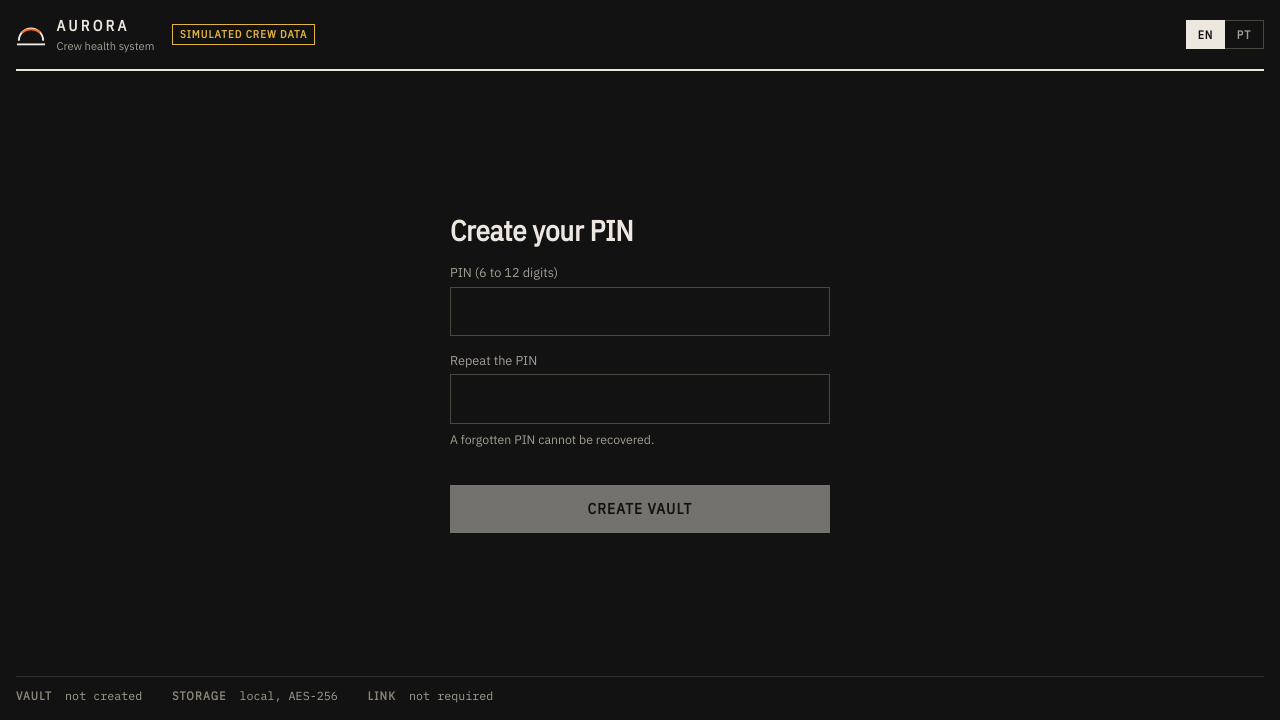
Test: Portuguese version › shows PIN errors in Portuguese
The image size is (1280, 720).
Click the button named "Português" at (1244, 35), box [1225, 20, 1264, 49]
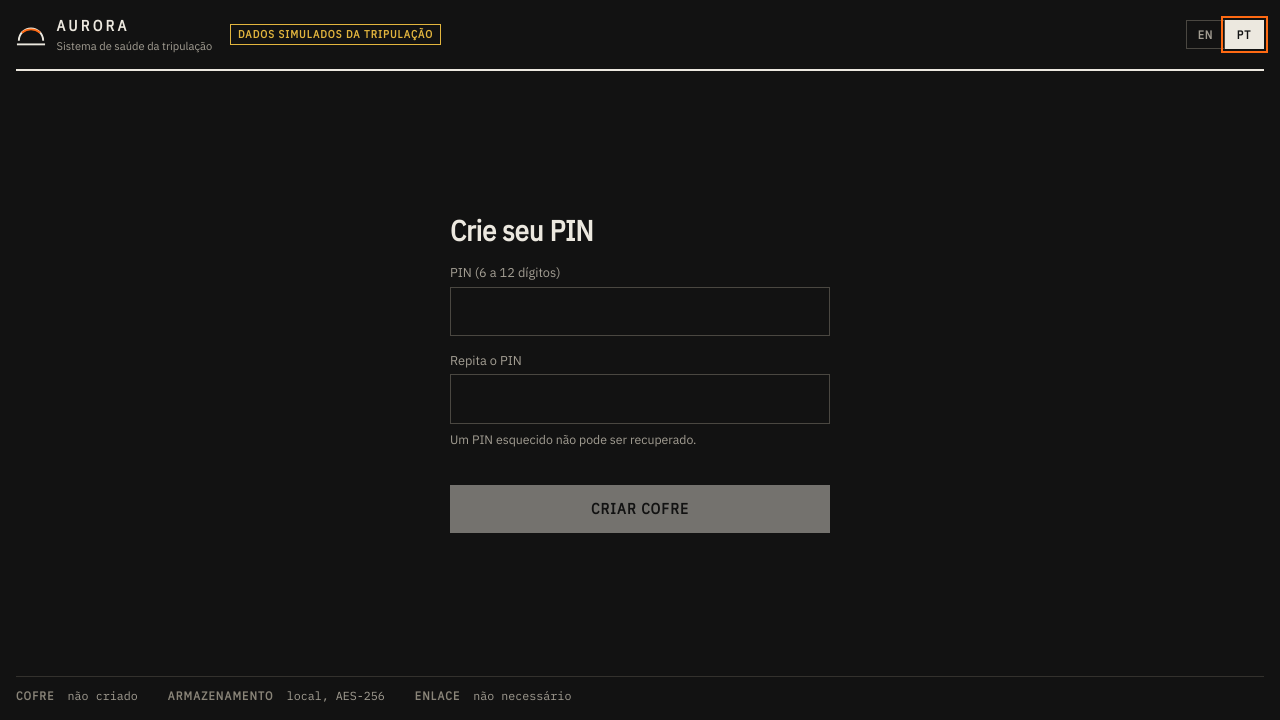
Type "123456" into the password field labelled "PIN (6 a 12 dígitos)" at (640, 311), box [450, 286, 830, 336]
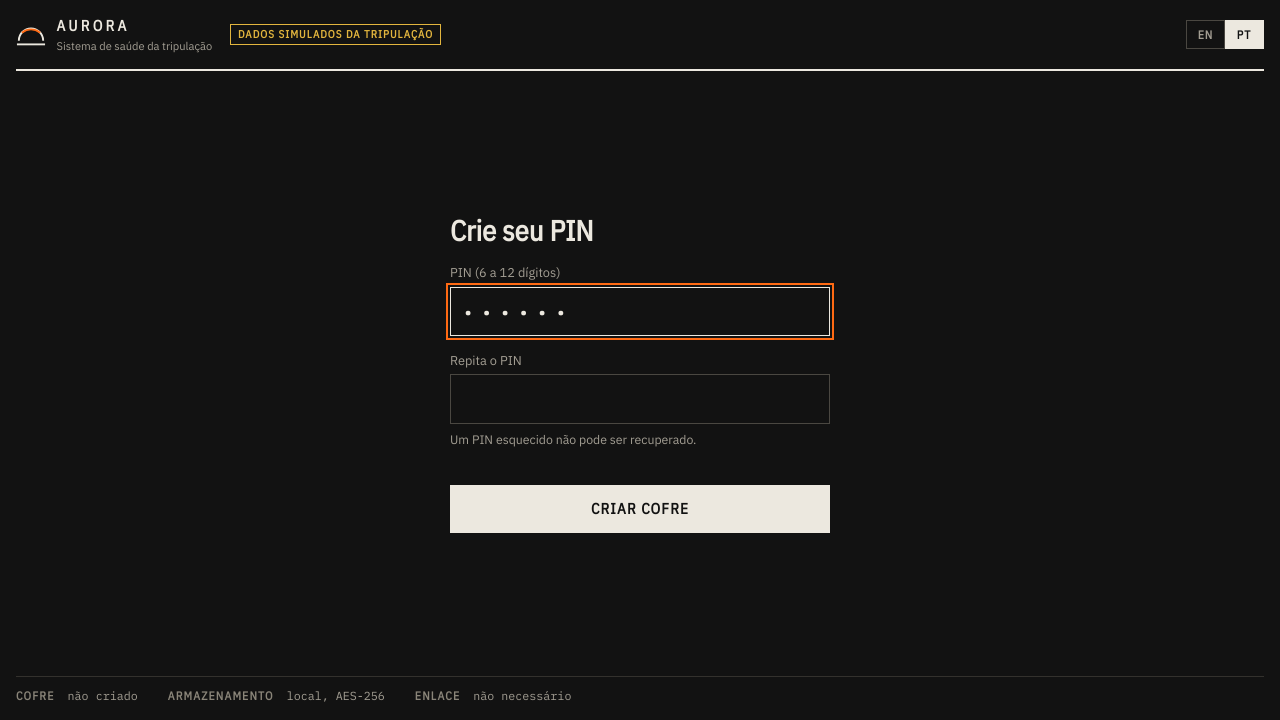
Type "123456" into the password field labelled "Repita o PIN" at (640, 399), box [450, 374, 830, 424]
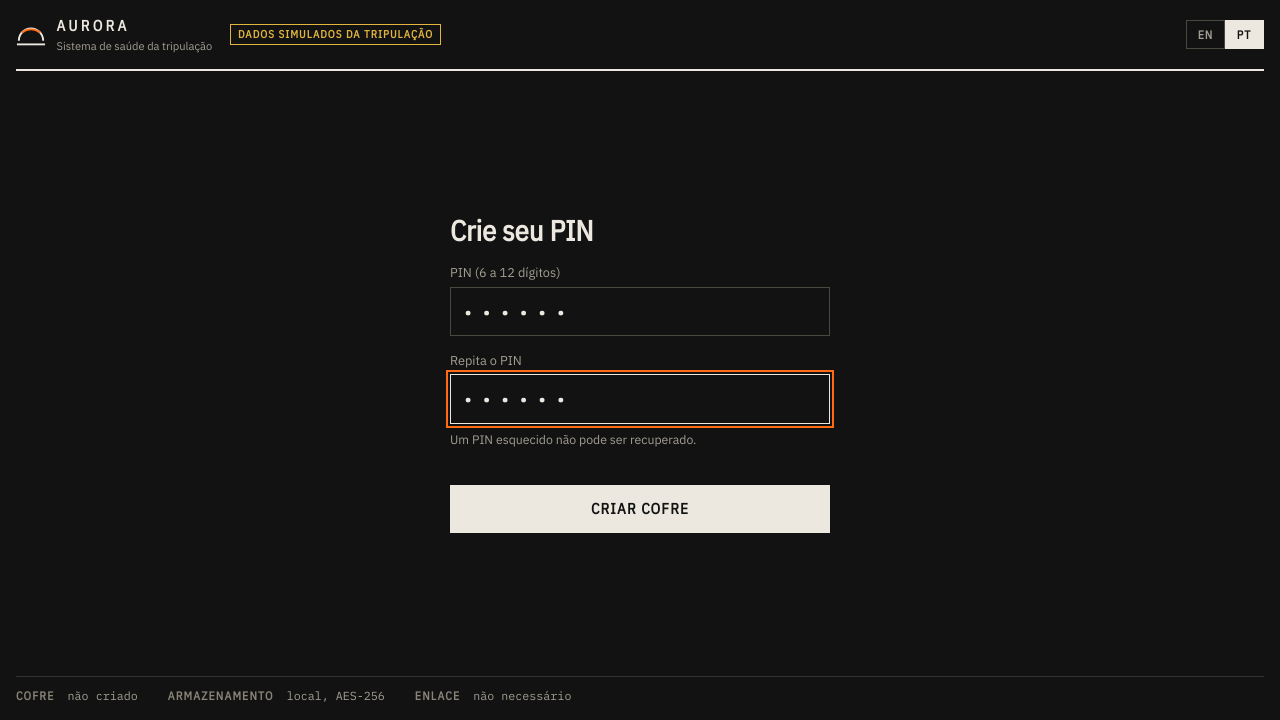
Click the button "Criar cofre" at (640, 509), box [450, 485, 830, 533]
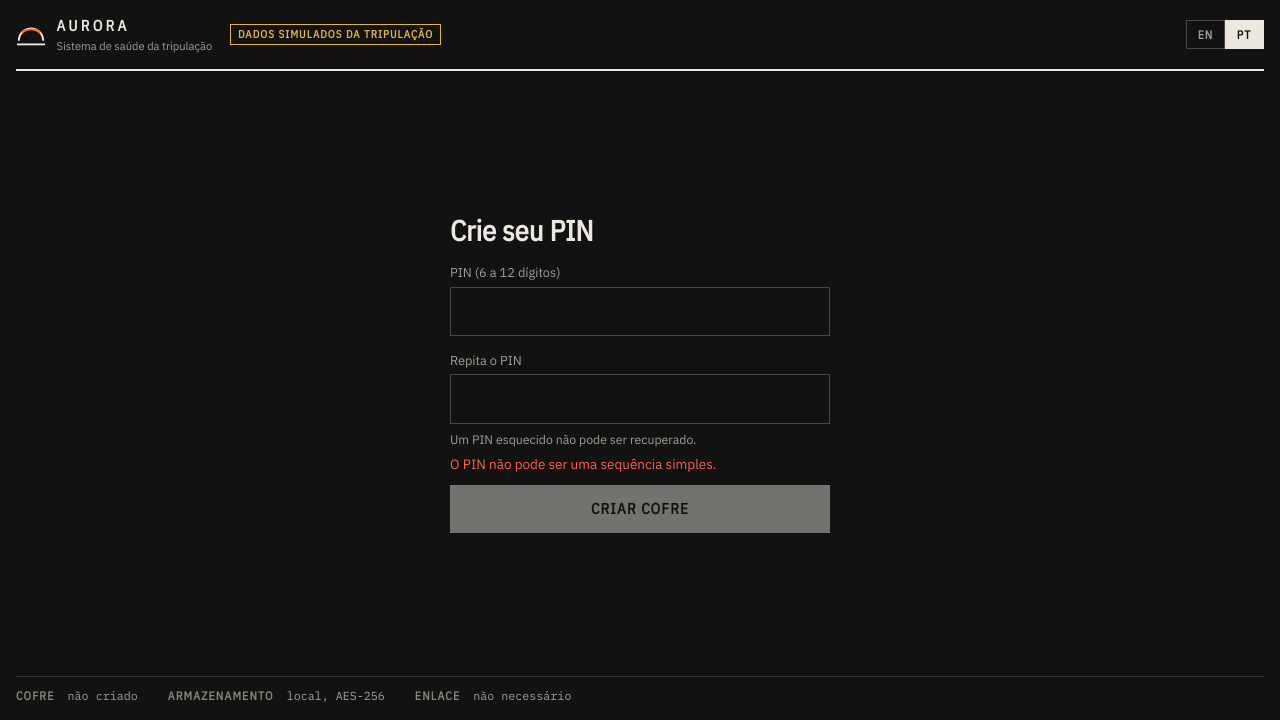
Result: the text "O PIN não pode ser uma sequência simples." is shown at [450, 455, 716, 473]
